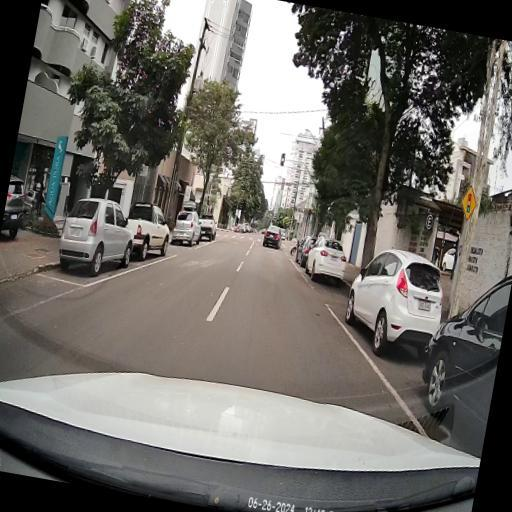A-14: (457, 183, 479, 221)
R-6b: (185, 188, 190, 196)
